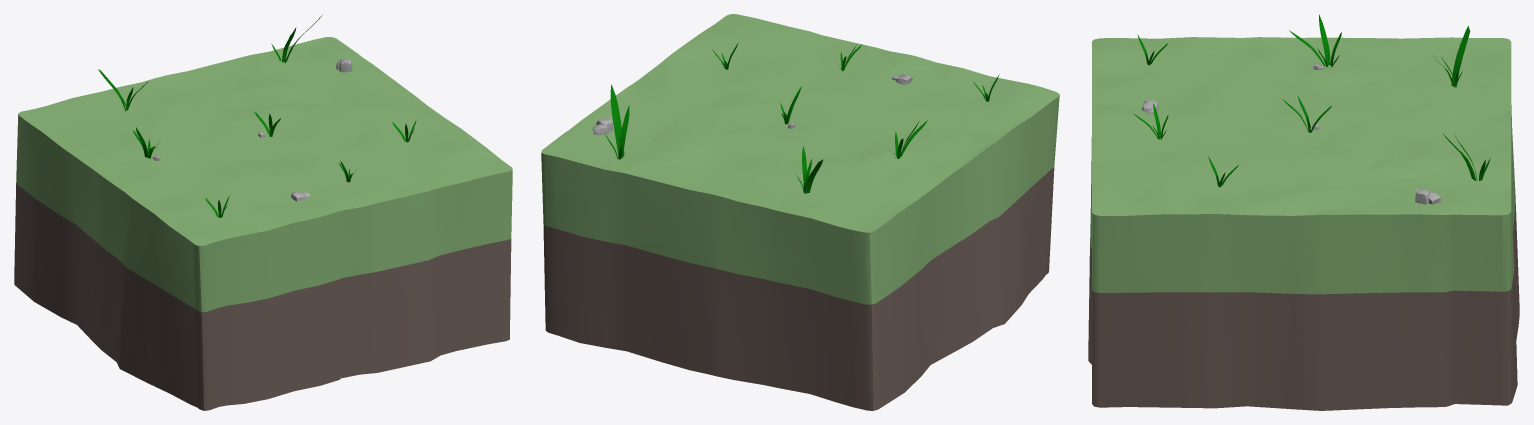
File: free_map1.fbx
The picture shows the model from 3 angles, left to right: view 1: azimuth 30°, elevation 25°; view 2: azimuth 150°, elevation 25°; view 3: azimuth 270°, elevation 25°; orthographic projection. The views are drawn at different scales.
Parts seen in each view (by area): view 1: groundaa, pPlane14; view 2: groundaa, pPlane14; view 3: groundaa, pPlane14.
Boxes of the visible parts, x1,y1,x2,y2 form: groundaa: (14,37,512,410); pPlane14: (98,15,416,217); groundaa: (541,14,1059,410); pPlane14: (592,42,999,193); groundaa: (1088,37,1519,410); pPlane14: (1133,14,1490,204).
Size of the model in its own units: 20.78 by 13.28 by 20.34.
